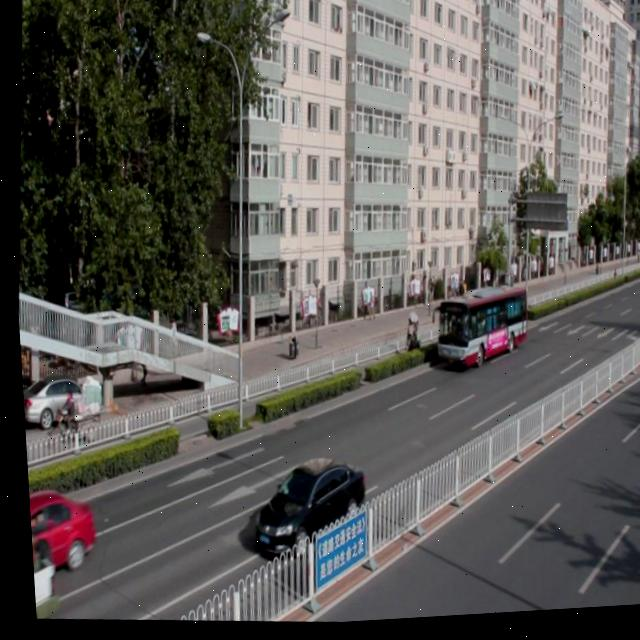car: (244, 453, 364, 563), (23, 481, 93, 574), (25, 545, 51, 620)
van: (426, 284, 525, 375)
